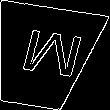M_S: (7, 28, 79, 86)
